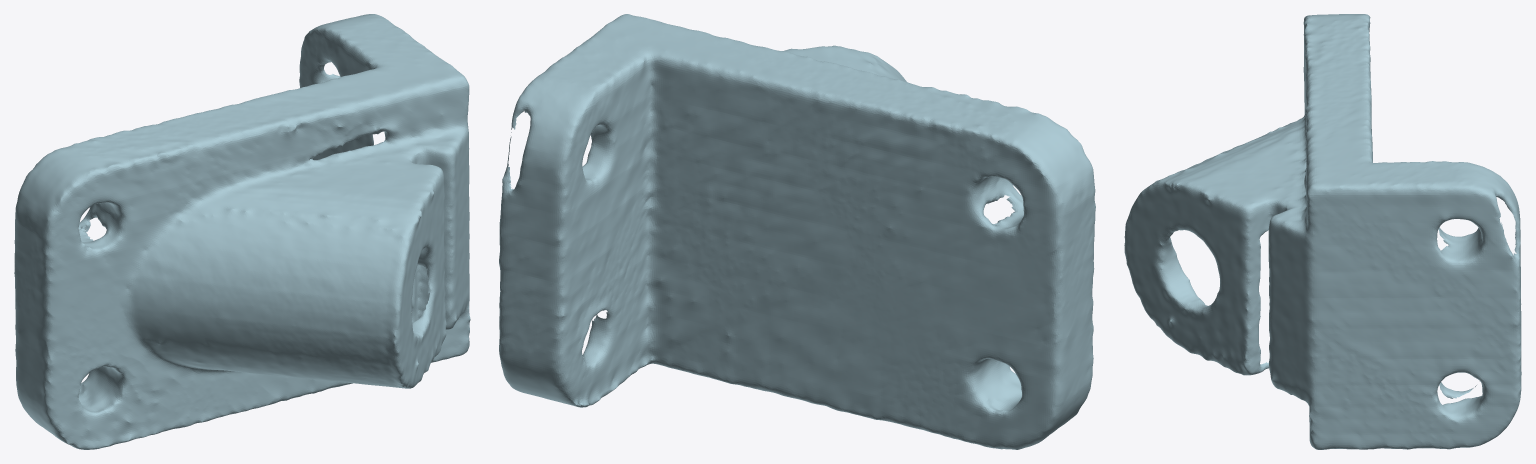
Rendered from anchor.glb.
3 renders of one model, left to right at view 1: azimuth 30°, elevation 25°; view 2: azimuth 150°, elevation 25°; view 3: azimuth 270°, elevation 25°, orthographic. The views are drawn at different scales.
Parts seen in each view (by area): view 1: anchor_ours.obj; view 2: anchor_ours.obj; view 3: anchor_ours.obj.
Boxes of the visible parts, x1,y1,x2,y2 form: anchor_ours.obj: [14, 14, 470, 449]; anchor_ours.obj: [499, 14, 1095, 449]; anchor_ours.obj: [1124, 14, 1521, 449].
Bounding box in the file's own units: 1 × 0.6334 × 0.8538.
